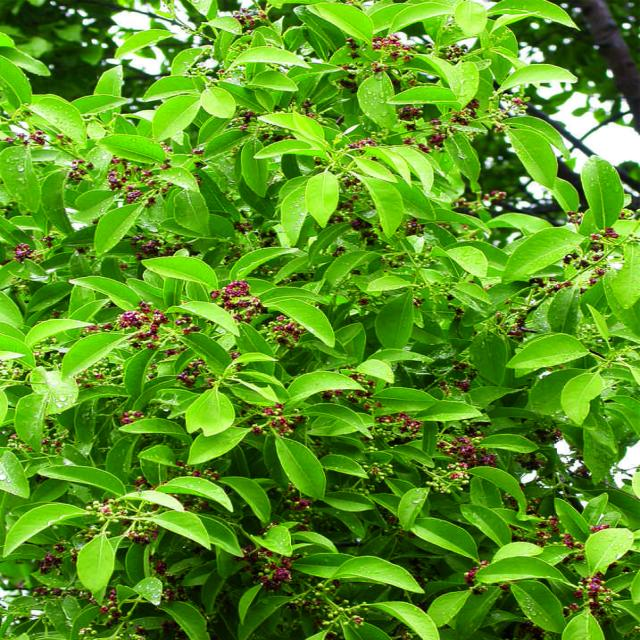Medicinal-Sandalwood: (0, 0, 640, 640)
